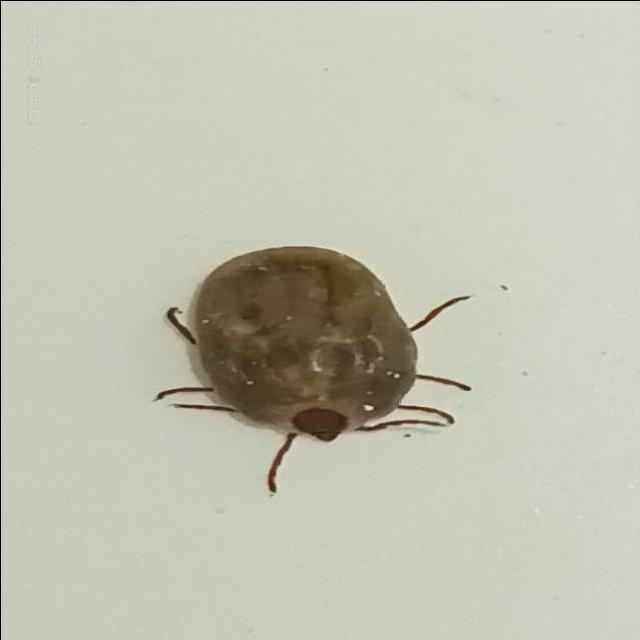Rhipicephalus Sanguineus-F-Fed: (152, 244, 472, 493)
